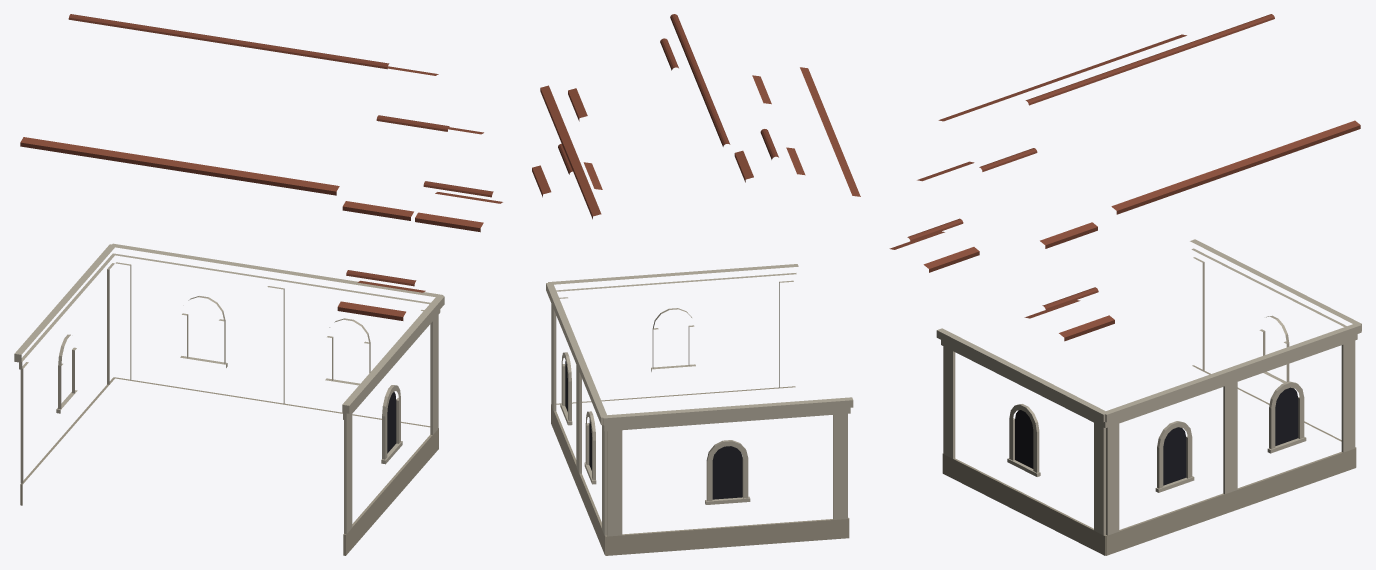
The picture shows the model from 3 angles, left to right: view 1: azimuth 30°, elevation 25°; view 2: azimuth 150°, elevation 25°; view 3: azimuth 270°, elevation 25°; orthographic projection. The views are drawn at different scales.
Visible parts, largest first — view 1: detail; view 2: detail; view 3: detail.
Boxes of the visible parts, left/top/right/bottom form: detail: left=14, top=14, right=502, bottom=555; detail: left=532, top=14, right=860, bottom=555; detail: left=889, top=14, right=1361, bottom=555.
Bounding box in the file's own units: 16.55 × 16.47 × 17.09.
